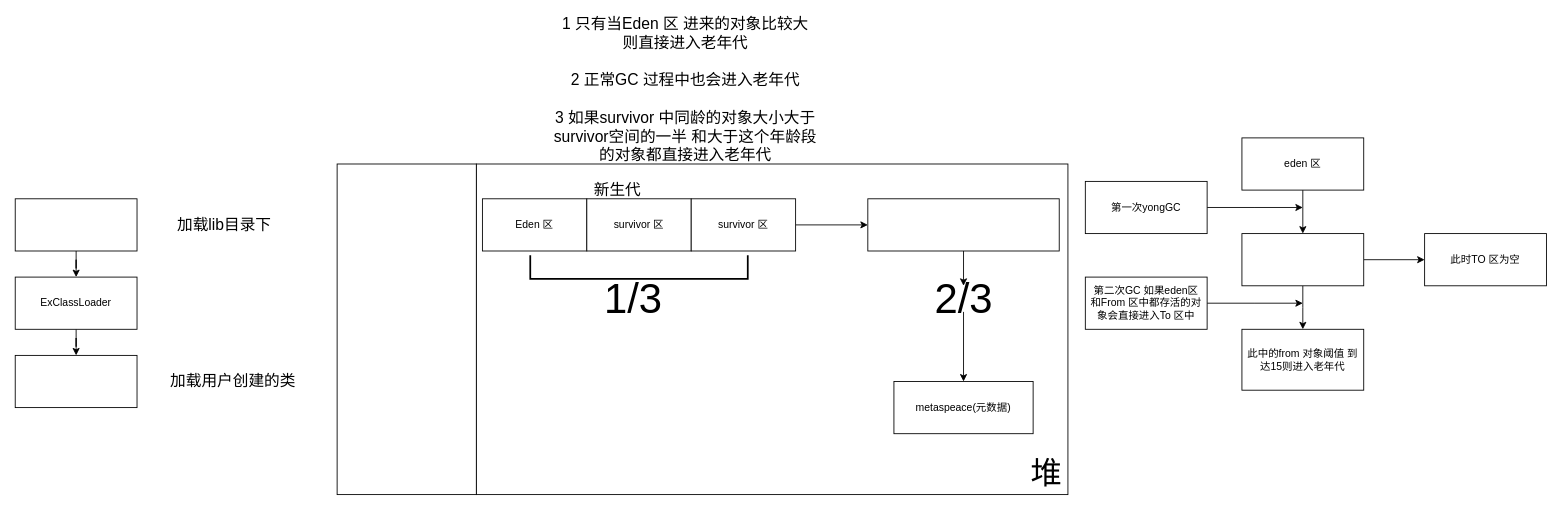
Some shapes in this 1562 by 510 pixel diagram are drawn without their labels. Each missing label, with the centre of its shape:
"1. 新生代中的对象什么时候会进入老年代 正常GC 产生大对象 动态gc" goes at (406,329).
"ApplicationClassloader" goes at (75,381).
"ClassLoader" goes at (75,224).
"存活的会进入到From 区中" goes at (1302,259).
"老年代" goes at (963,224).
